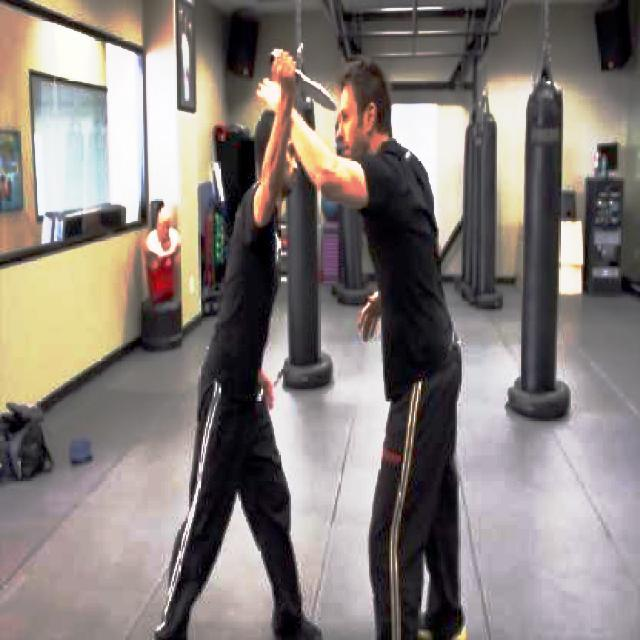Knife: (257, 40, 333, 109)
